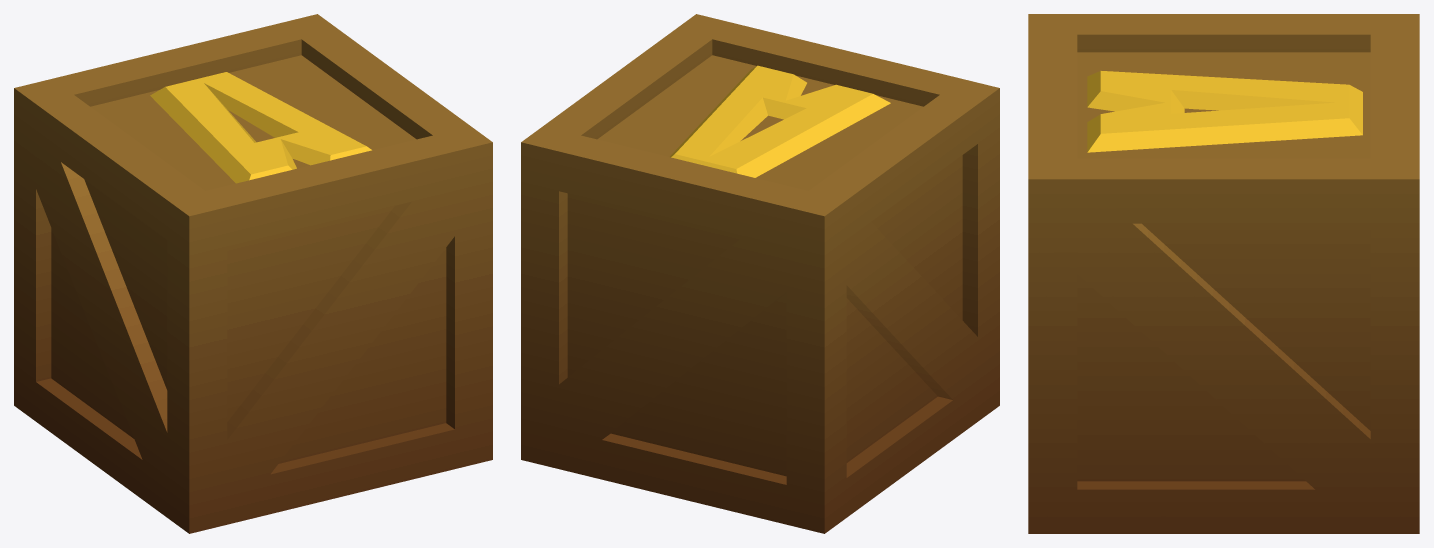
The model's file is sm_forest_boxA.fbx.
The picture shows the model from 3 angles, left to right: view 1: azimuth 30°, elevation 25°; view 2: azimuth 150°, elevation 25°; view 3: azimuth 270°, elevation 25°; orthographic projection. The views are drawn at different scales.
Parts seen in each view (by area): view 1: Cube.003; view 2: Cube.003; view 3: Cube.003.
Boxes of the visible parts, left/top/right/bottom form: Cube.003: left=14, top=14, right=492, bottom=533; Cube.003: left=521, top=14, right=999, bottom=533; Cube.003: left=1028, top=14, right=1419, bottom=533.
Bounding box in the file's own units: 100 × 100 × 100.
